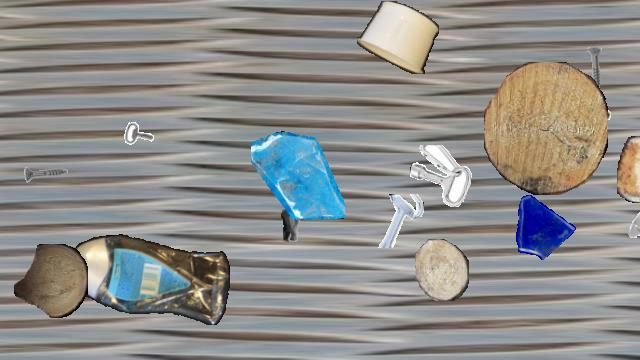glass: (251, 130, 345, 224), (506, 189, 576, 259)
metal: (559, 99, 621, 161), (410, 145, 472, 207), (372, 194, 426, 248), (266, 202, 316, 252), (571, 45, 619, 93), (22, 152, 68, 198), (124, 108, 164, 148), (622, 200, 640, 254), (0, 152, 17, 206)
plastic: (69, 233, 229, 329), (357, 1, 439, 73)
wood: (484, 62, 608, 194), (14, 244, 88, 318), (415, 239, 469, 301), (617, 136, 640, 202)
